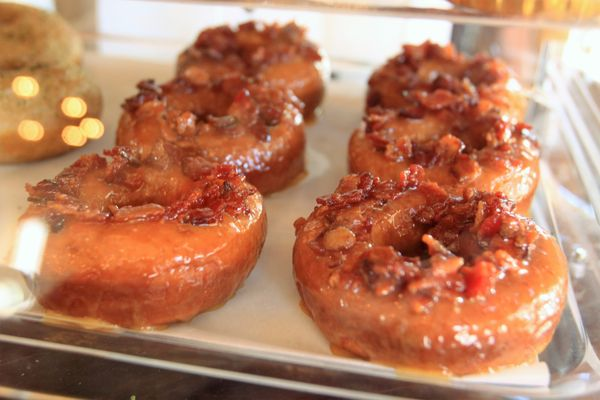salad: (291, 41, 568, 379), (16, 144, 267, 330), (117, 15, 326, 197), (0, 1, 105, 165)
